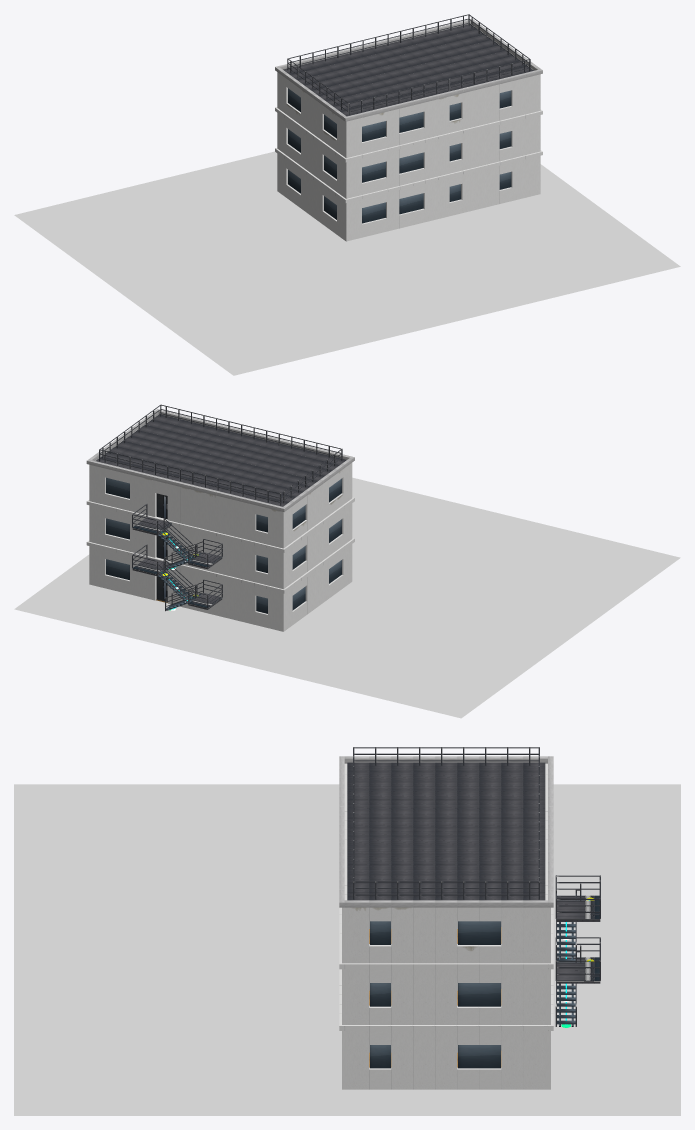
3 renders of one model, top to bottom at view 1: azimuth 30°, elevation 25°; view 2: azimuth 150°, elevation 25°; view 3: azimuth 270°, elevation 25°, orthographic. The views are drawn at different scales.
Parts seen in each view (by area): view 1: Ground, Story2_Roof_Optimized, Story0_OuterWall_South_Optimized, Story1_OuterWall_South_Optimized, Story2_OuterWall_South_Optimized, Story0_OuterWall_West_Optimized, Story1_OuterWall_West_Optimized, Story2_OuterWall_West_Optimized, Story2_Border_Roof_Border_South_X_Roof_Run002_Liney_0.25_Opt, Story2_Roof_Railing_Roof_Roof_Railing_2_Optimized, Story2_Roof_Railing_Roof_Roof_Railing_1_Optimized, Story1_Border_Floor_Band_South_X_Story_Run002_Liney_0.25_Opt (+2 smaller); view 2: Ground, Story2_Roof_Optimized, Story2_OuterWall_North_Optimized, Story0_OuterWall_North_Optimized, Story1_OuterWall_North_Optimized, Story0_OuterWall_West_Optimized, Story1_OuterWall_West_Optimized, Story2_OuterWall_West_Optimized, Story2_Border_Roof_Border_North_X_Roof_Run001_Liney9.25_Opti, Story2_Roof_Railing_Roof_Roof_Railing_1_Optimized, Story2_Roof_Railing_Roof_Roof_Railing_2_Optimized, Story2_Border_Roof_Border_South_X_Roof_Run002_Liney_0.25_Opt (+4 smaller); view 3: Ground, Story2_Roof_Optimized, Story0_OuterWall_East_Optimized, Story2_OuterWall_East_Optimized, Story1_OuterWall_East_Optimized, Story2_Border_Roof_Border_East_Y_Roof_Run003_Linex15.25_Opti, Story1_Border_Floor_Band_East_Y_Story_Run003_Linex15.25_Opti, Story2_Border_Roof_Border_West_Y_Roof_Run004_Linex_0.25_Opti, Story2_Roof_Railing_Roof_Roof_Railing_4_Optimized, Story0_Border_Floor_Band_East_Y_Story_Run003_Linex15.25_Opti, Story2_Roof_Railing_Roof_Roof_Railing_3_Optimized, Story0_WindowGlass_008 (+8 smaller).
Boxes of the visible parts, bbox=[...] form: Ground: bbox=[14, 151, 680, 375]; Story2_Roof_Optimized: bbox=[283, 24, 533, 116]; Story0_OuterWall_South_Optimized: bbox=[344, 155, 540, 241]; Story1_OuterWall_South_Optimized: bbox=[344, 115, 540, 198]; Story2_OuterWall_South_Optimized: bbox=[344, 74, 540, 158]; Story0_OuterWall_West_Optimized: bbox=[279, 155, 344, 239]; Story1_OuterWall_West_Optimized: bbox=[279, 114, 344, 196]; Story2_OuterWall_West_Optimized: bbox=[279, 73, 344, 156]; Story2_Border_Roof_Border_South_X_Roof_Run002_Liney_0.25_Opt: bbox=[343, 69, 542, 121]; Story2_Roof_Railing_Roof_Roof_Railing_2_Optimized: bbox=[349, 59, 529, 112]; Story2_Roof_Railing_Roof_Roof_Railing_1_Optimized: bbox=[288, 14, 468, 67]; Story1_Border_Floor_Band_South_X_Story_Run002_Liney_0.25_Opt: bbox=[343, 110, 542, 162]; Ground: bbox=[14, 477, 680, 718]; Story2_Roof_Optimized: bbox=[96, 414, 346, 506]; Story2_OuterWall_North_Optimized: bbox=[89, 464, 285, 548]; Story0_OuterWall_North_Optimized: bbox=[89, 546, 285, 631]; Story1_OuterWall_North_Optimized: bbox=[89, 505, 285, 589]; Story0_OuterWall_West_Optimized: bbox=[285, 545, 350, 630]; Story1_OuterWall_West_Optimized: bbox=[285, 504, 350, 587]; Story2_OuterWall_West_Optimized: bbox=[285, 464, 350, 546]; Story2_Border_Roof_Border_North_X_Roof_Run001_Liney9.25_Opti: bbox=[86, 459, 285, 511]; Story2_Roof_Railing_Roof_Roof_Railing_1_Optimized: bbox=[100, 449, 280, 502]; Story2_Roof_Railing_Roof_Roof_Railing_2_Optimized: bbox=[161, 404, 341, 457]; Story2_Border_Roof_Border_South_X_Roof_Run002_Liney_0.25_Opt: bbox=[156, 409, 354, 461]; Ground: bbox=[14, 784, 680, 1115]; Story2_Roof_Optimized: bbox=[347, 762, 545, 900]; Story0_OuterWall_East_Optimized: bbox=[347, 1031, 545, 1089]; Story2_OuterWall_East_Optimized: bbox=[347, 907, 545, 963]; Story1_OuterWall_East_Optimized: bbox=[347, 969, 545, 1024]; Story2_Border_Roof_Border_East_Y_Roof_Run003_Linex15.25_Opti: bbox=[344, 900, 547, 907]; Story1_Border_Floor_Band_East_Y_Story_Run003_Linex15.25_Opti: bbox=[344, 963, 547, 969]; Story2_Border_Roof_Border_West_Y_Roof_Run004_Linex_0.25_Opti: bbox=[344, 756, 547, 763]; Story2_Roof_Railing_Roof_Roof_Railing_4_Optimized: bbox=[354, 747, 538, 765]; Story0_Border_Floor_Band_East_Y_Story_Run003_Linex15.25_Opti: bbox=[344, 1025, 547, 1030]; Story2_Roof_Railing_Roof_Roof_Railing_3_Optimized: bbox=[354, 881, 538, 899]; Story0_WindowGlass_008: bbox=[458, 1045, 500, 1068].
Size of the model in its own units: 35.67 by 10.31 by 30.33.
Materials: 19 (12 with a texture image).
